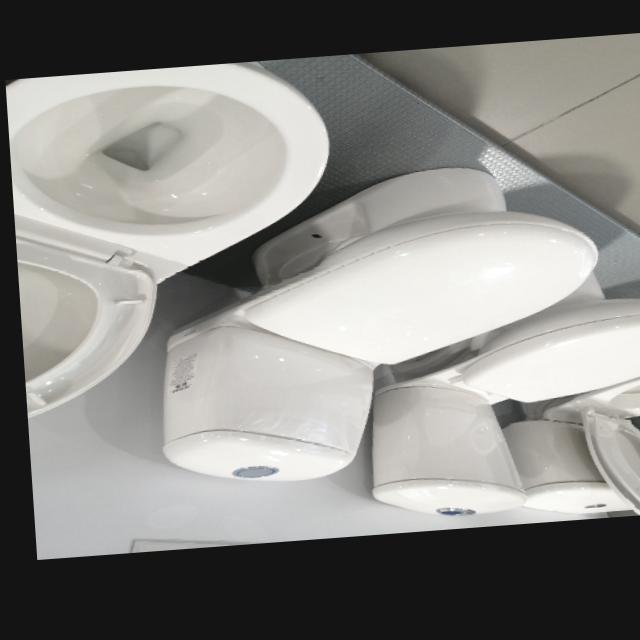toilet: (142, 166, 606, 494), (6, 62, 341, 418), (354, 277, 640, 530), (493, 376, 640, 533)
